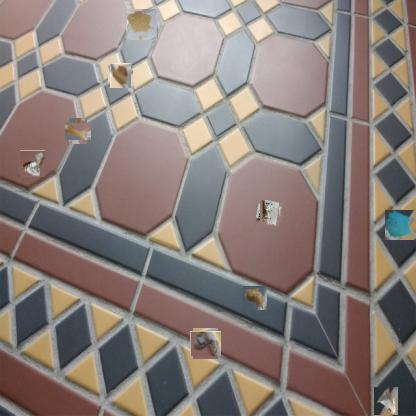dirty: (386, 210, 416, 240), (192, 330, 219, 357), (19, 150, 45, 177), (374, 387, 398, 415), (243, 286, 267, 310), (109, 64, 132, 87), (258, 202, 280, 224)
liquid: (127, 9, 158, 40), (67, 120, 89, 142)
